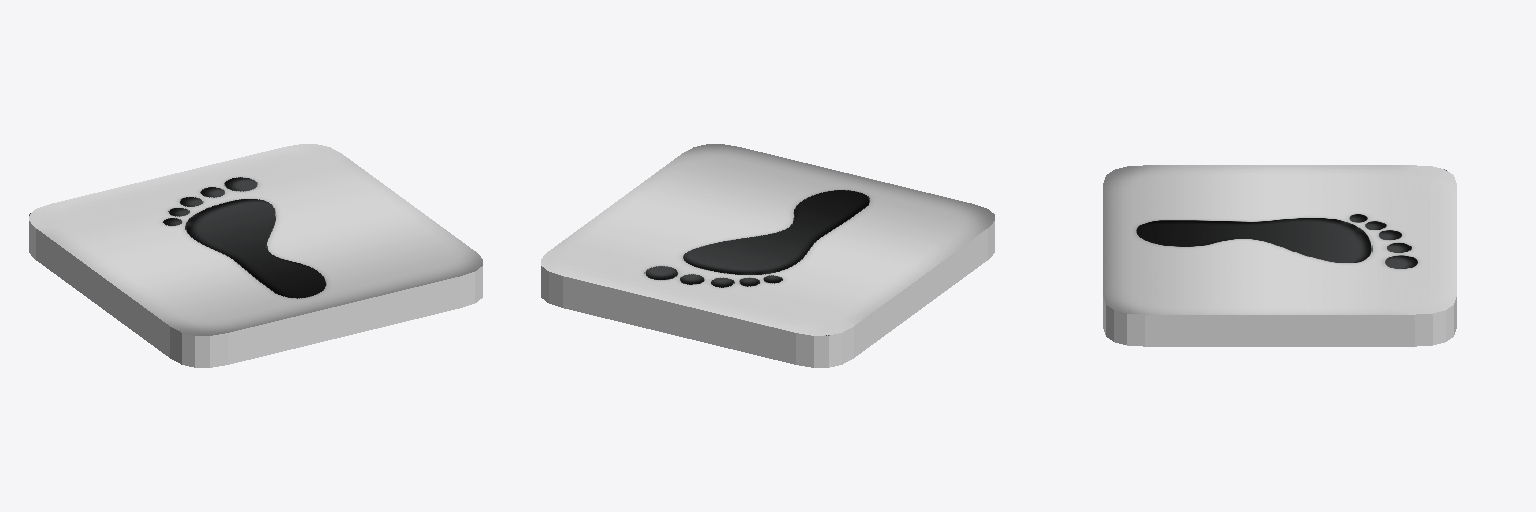
3 renders of one model, left to right at view 1: azimuth 30°, elevation 25°; view 2: azimuth 150°, elevation 25°; view 3: azimuth 270°, elevation 25°, orthographic.
Parts seen in each view (by area): view 1: Box001; view 2: Box001; view 3: Box001.
Part boxes in pixels (left/top/right/bottom): Box001: left=29, top=144, right=482, bottom=367; Box001: left=541, top=144, right=994, bottom=367; Box001: left=1103, top=165, right=1456, bottom=346.
Bounding box in the file's own units: 1 × 0.1 × 1.
1 materials, 1 textured.